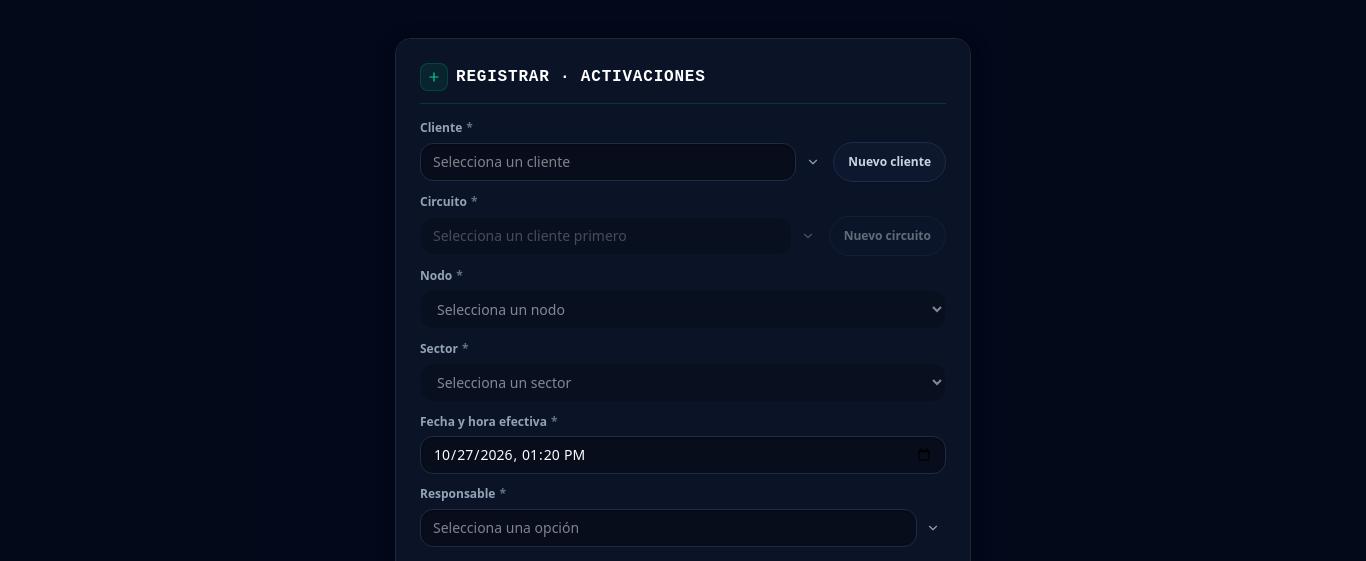
Test: informa clientes sin circuitos y sitúa Nuevo circuito junto a su selector
Click the dropdown labelled "Cliente" at (608, 162), box top-left (420, 143), bottom-right (796, 181)
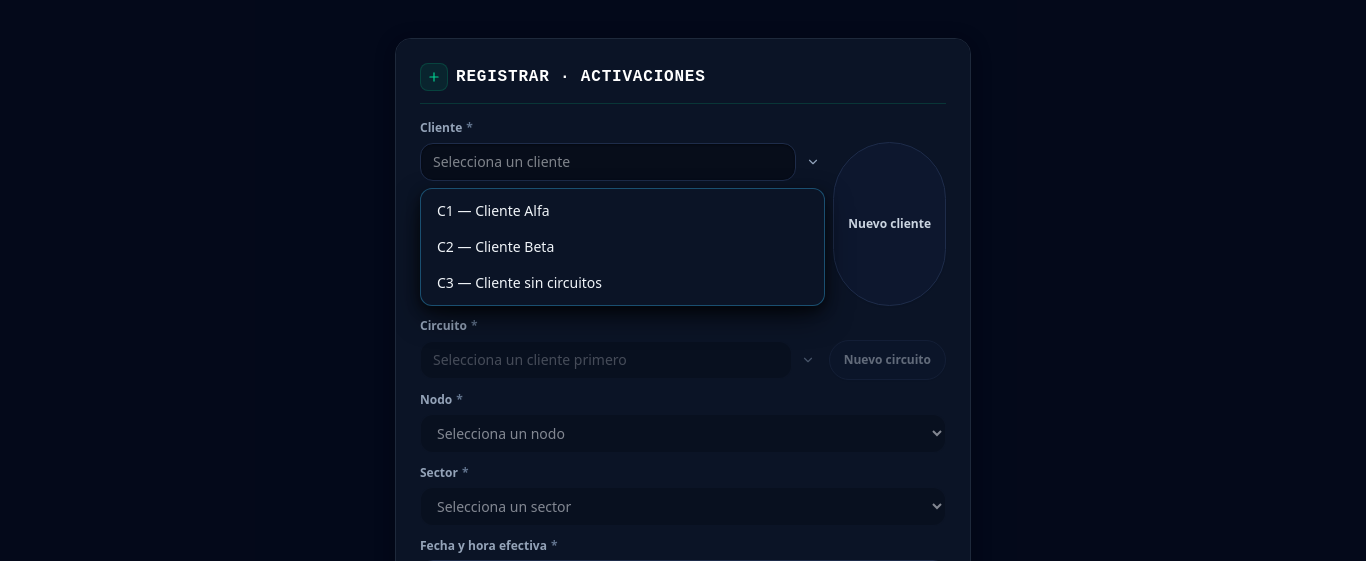
Click the option "C3 — Cliente sin circuitos" at (520, 283), box top-left (437, 273), bottom-right (602, 292)
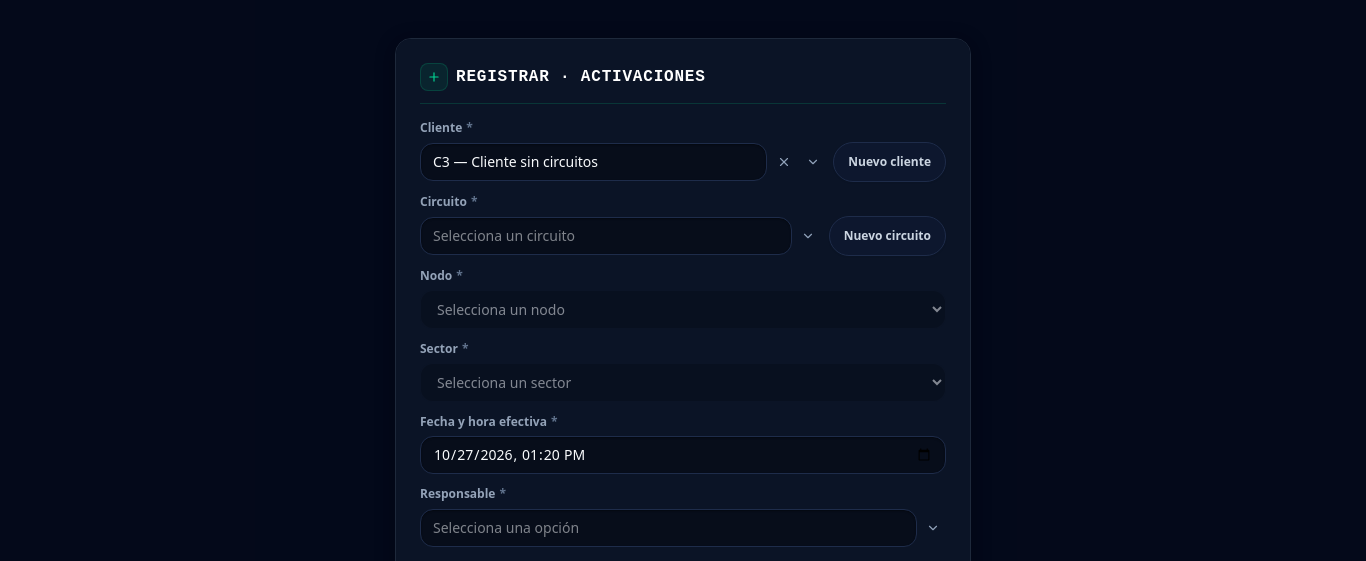
expect the dropdown labelled "Circuito" is enabled: met
Click the dropdown labelled "Circuito" at (606, 236), box top-left (420, 217), bottom-right (792, 255)
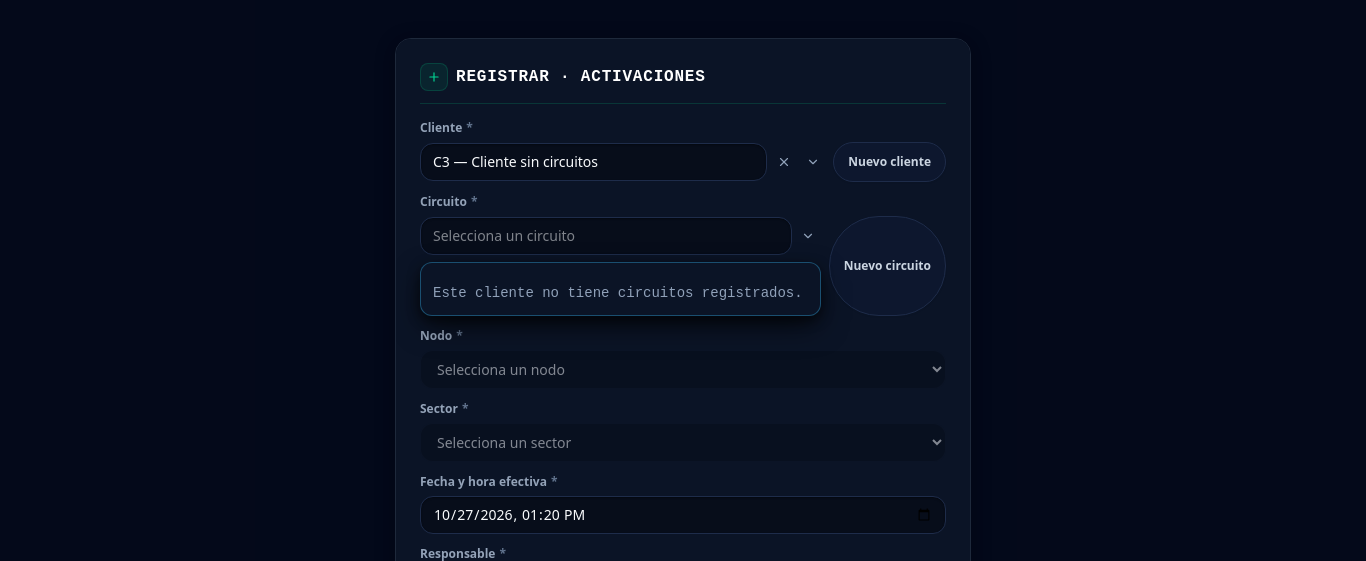
expect the text "Este cliente no tiene circuitos registrados." is shown: met, box top-left (433, 285), bottom-right (803, 301)
